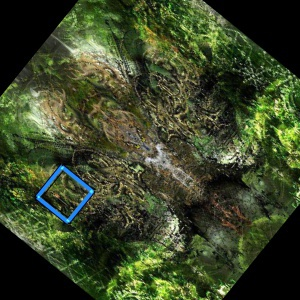square: (33, 163, 97, 225)
